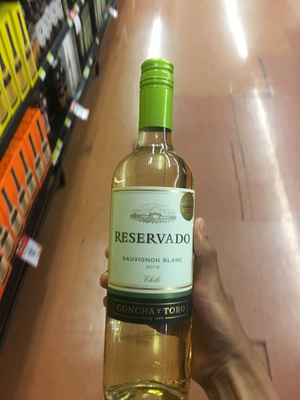reservado sauvignon blanc: (84, 69, 227, 400)
